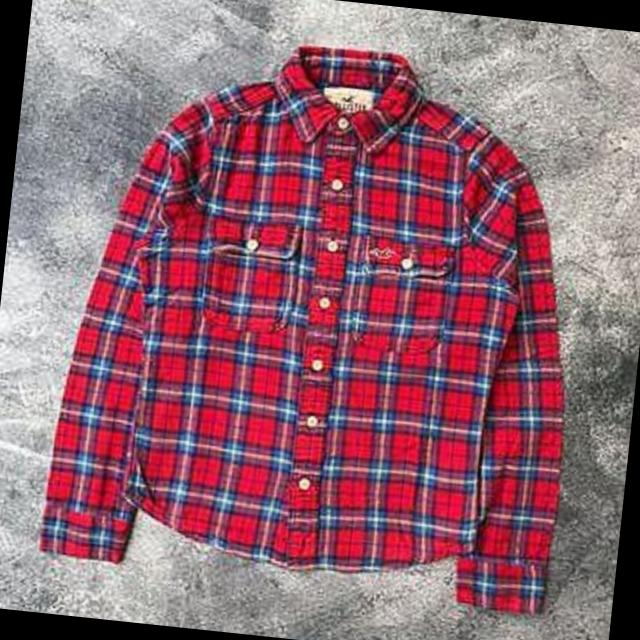SHIRT: (22, 8, 632, 631)
